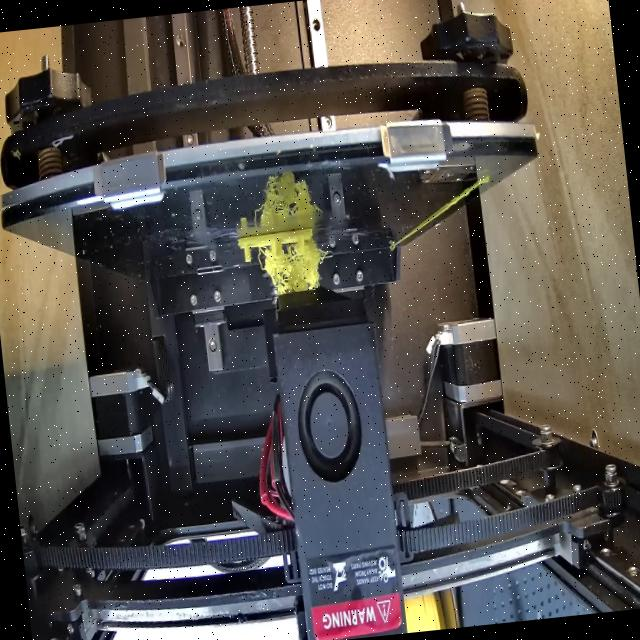spaghetti: (258, 241, 331, 308)
